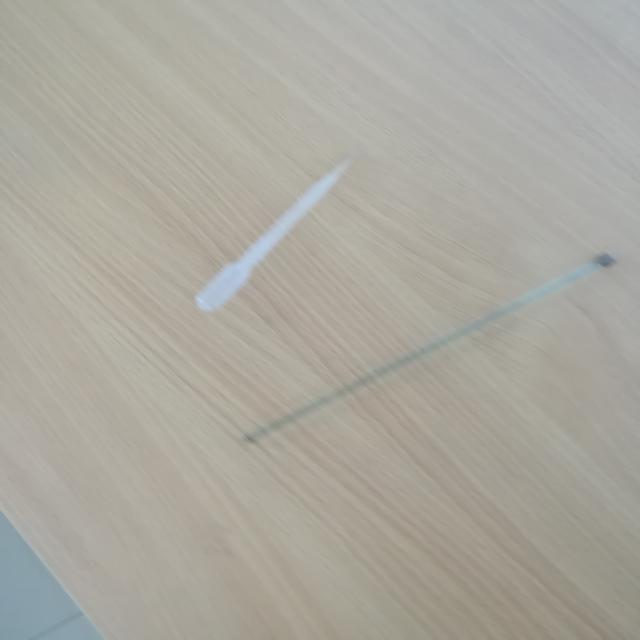Glass_Rod: (230, 228, 640, 482)
Pipette: (175, 123, 396, 327)
